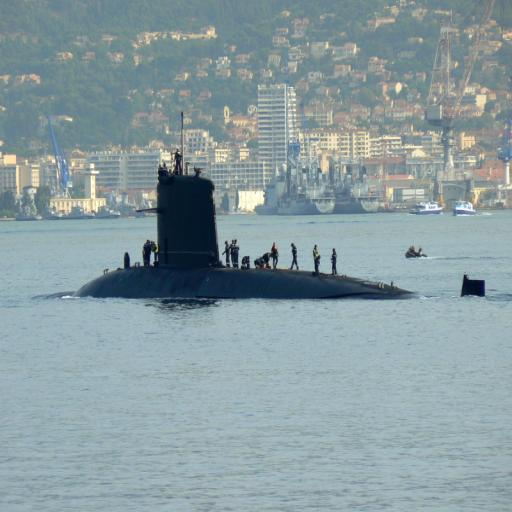submarine: (52, 177, 443, 302)
